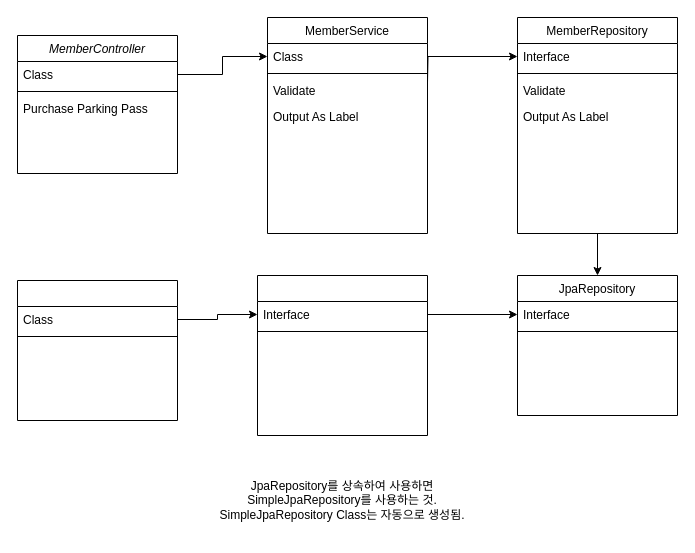
Image size: 695x553. Some labels were removed from this diagram. The shapes that lost their labels are listed below. From the top down, each one's box as (x1, y1, x2, y2) in pixels, then its label:
(16, 280, 178, 420): SimpleJpaRepositoy
(256, 274, 428, 436): JpaRepositoryImplementation
